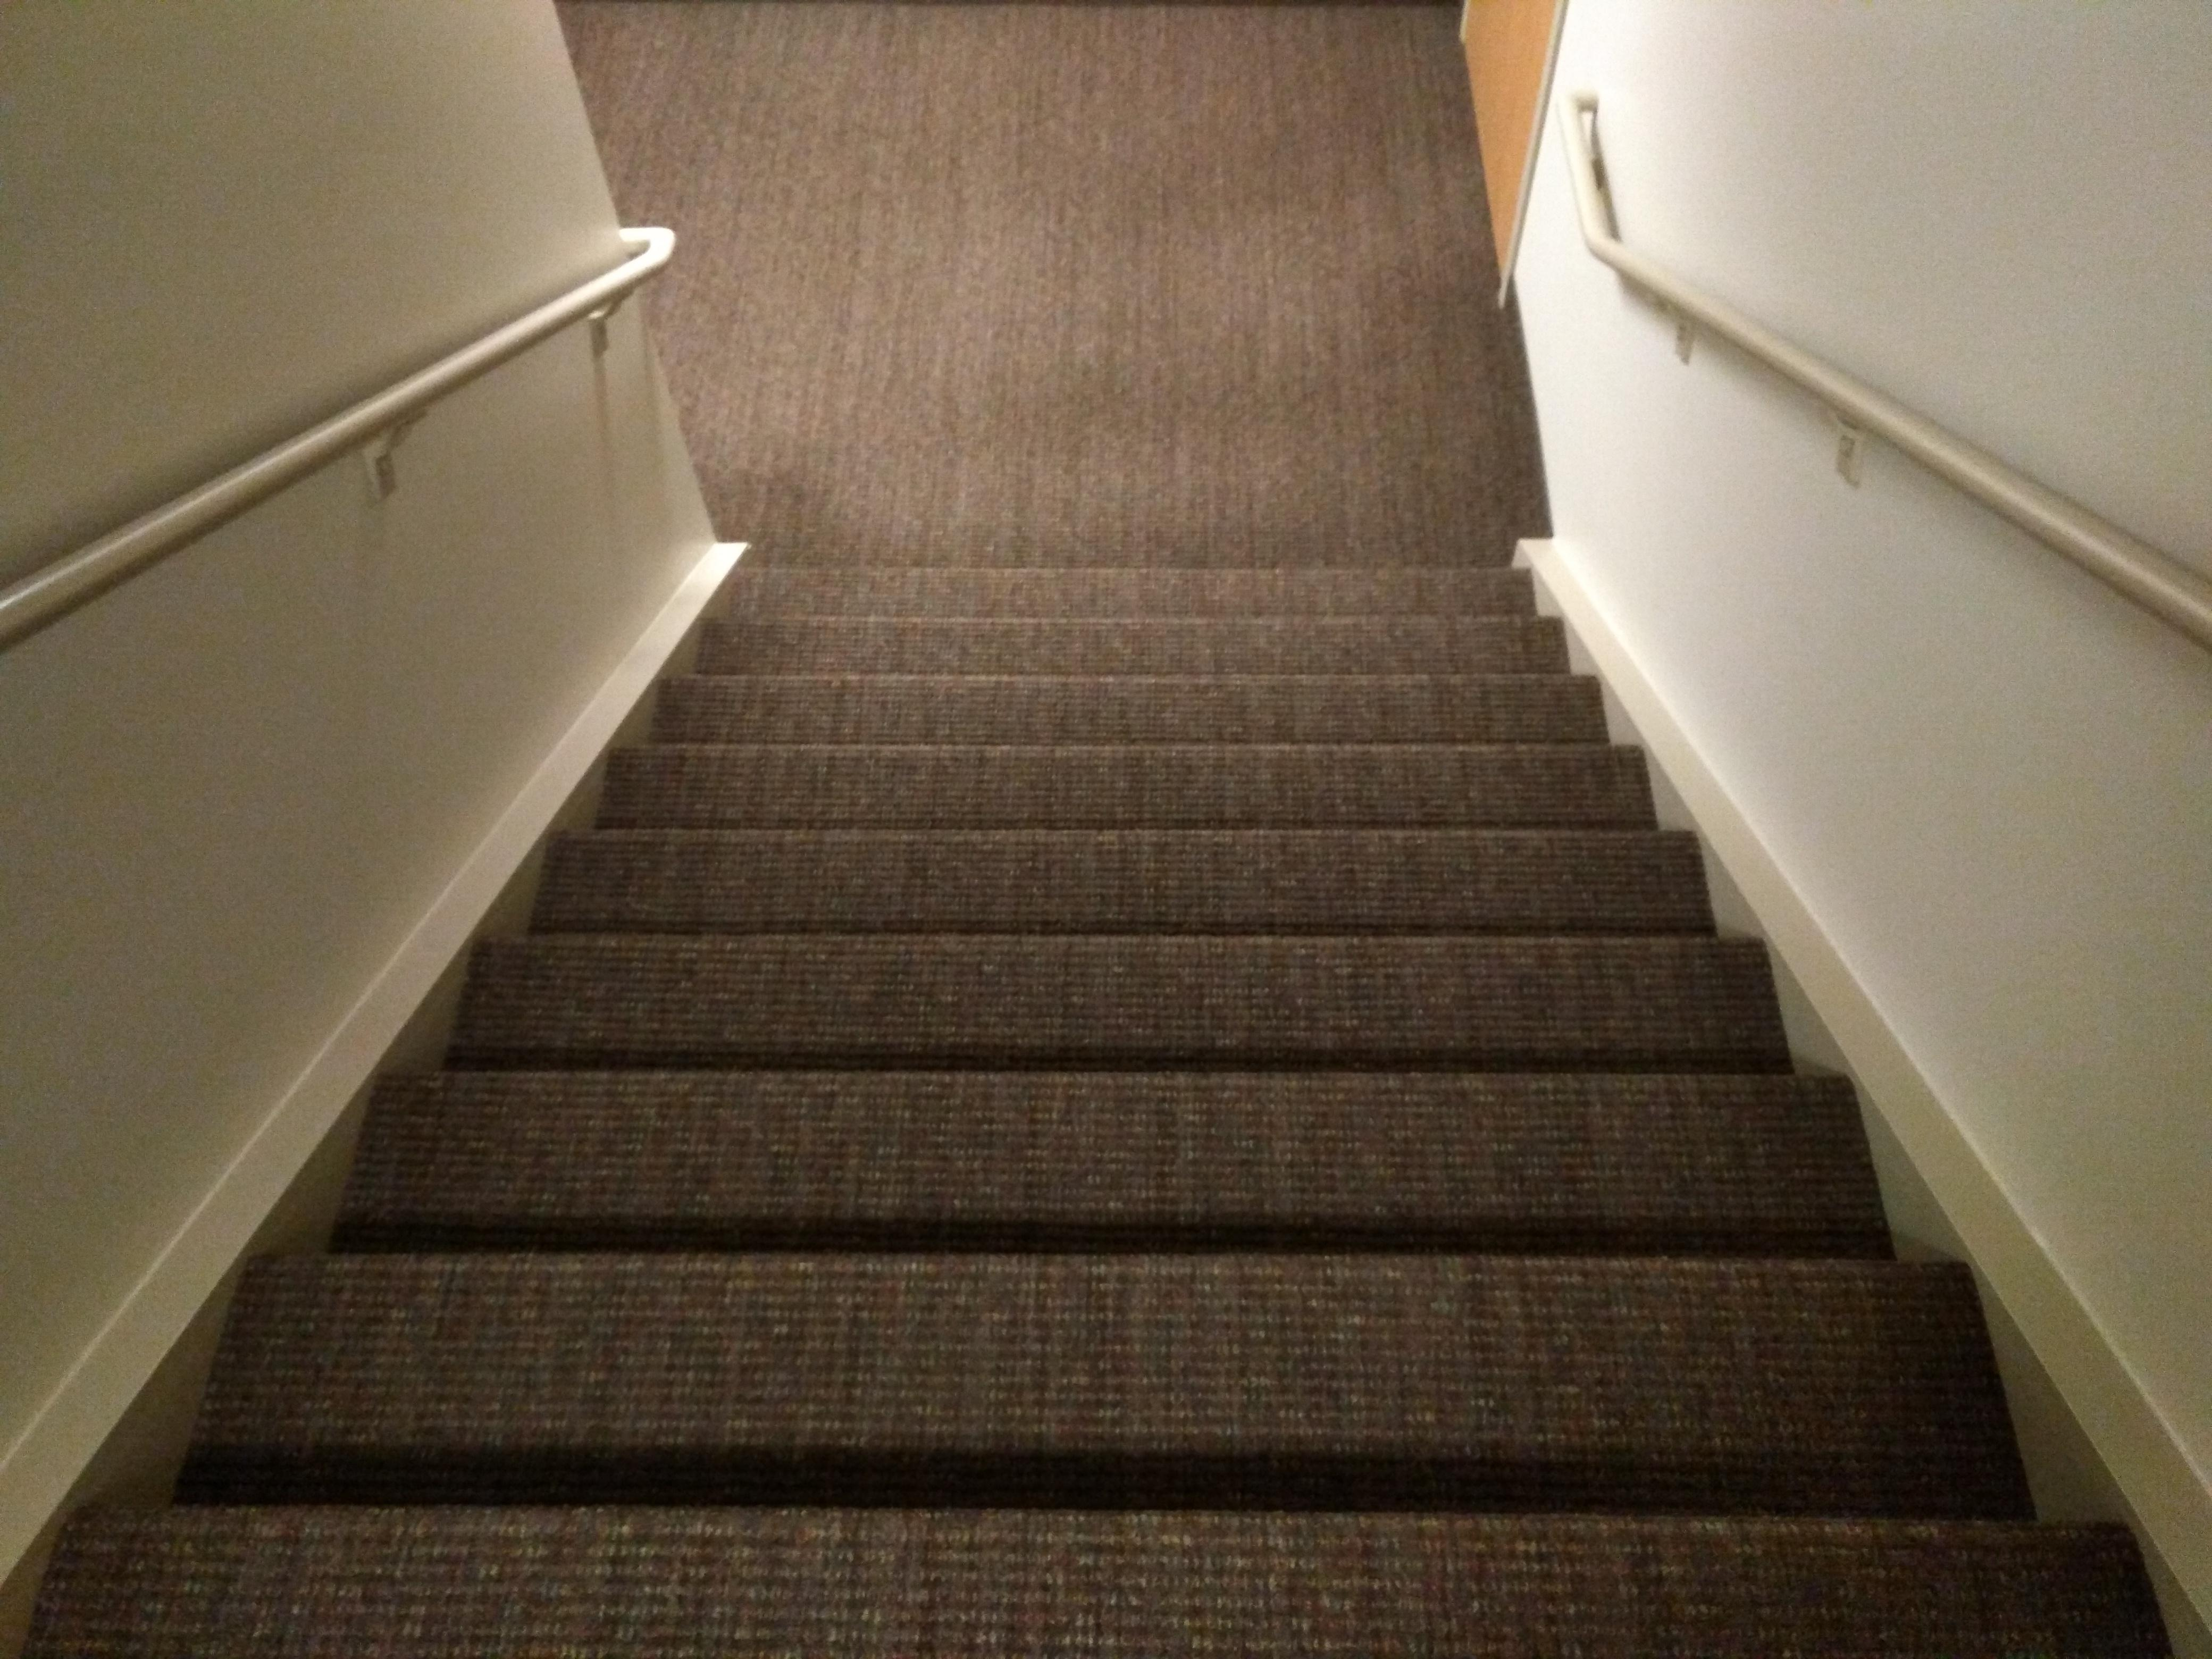stairs_down: (45, 465, 2165, 1581)
